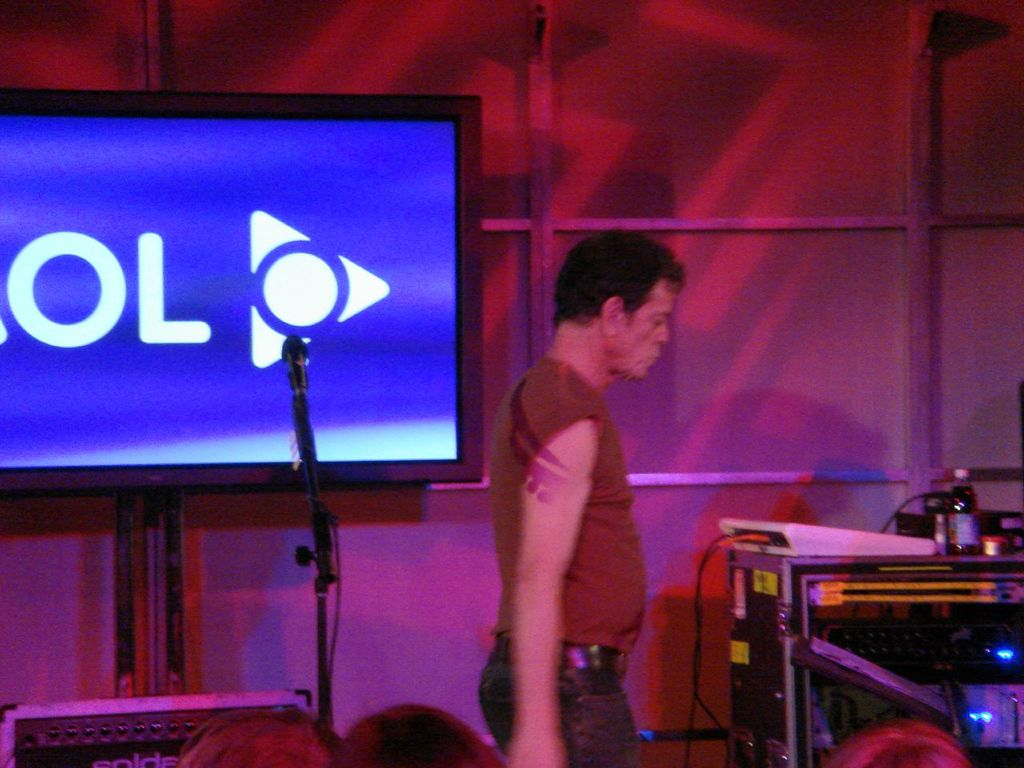Person: (478, 228, 686, 768)
